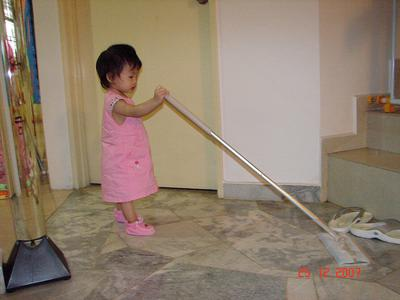person: (95, 44, 172, 238)
